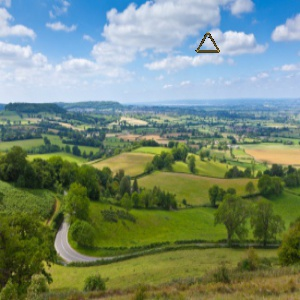triangle: (192, 29, 223, 58)
